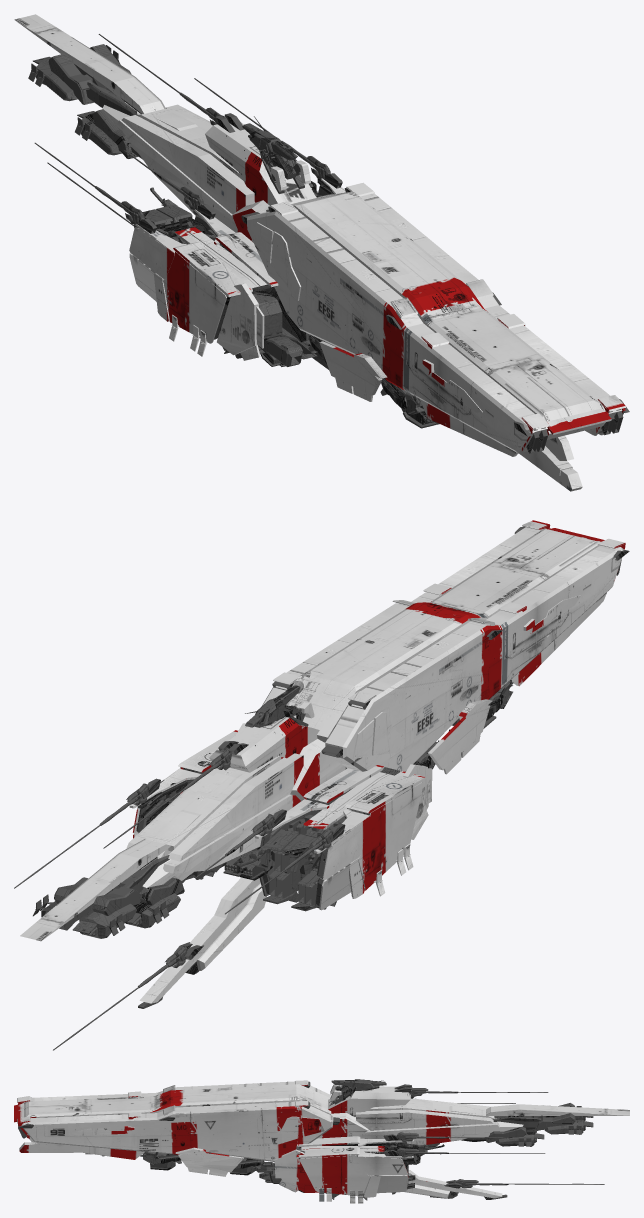
Rendered from battleship001.FBX.
3 views of the same model, one above another, from view 1: azimuth 30°, elevation 25°; view 2: azimuth 150°, elevation 25°; view 3: azimuth 270°, elevation 25° (orthographic). The views are drawn at different scales.
Parts seen in each view (by area): view 1: headbody, mainbody, detailbody, mainframe, detailframe, bridge; view 2: headbody, mainbody, detailbody, mainframe, detailframe, bridge; view 3: headbody, mainbody, detailbody, mainframe, detailframe, bridge.
Part boxes in pixels (x1=…): headbody: x1=247, y1=191, x2=622, y2=453; mainbody: x1=102, y1=102, x2=345, y2=343; detailbody: x1=14, y1=14, x2=625, y2=491; mainframe: x1=33, y1=44, x2=439, y2=428; detailframe: x1=28, y1=34, x2=629, y2=453; bridge: x1=242, y1=116, x2=304, y2=193; headbody: x1=262, y1=527, x2=623, y2=772; mainbody: x1=126, y1=716, x2=425, y2=1003; detailbody: x1=20, y1=520, x2=625, y2=941; mainframe: x1=41, y1=679, x2=513, y2=938; detailframe: x1=14, y1=526, x2=629, y2=1050; bridge: x1=245, y1=685, x2=308, y2=727; headbody: x1=21, y1=1081, x2=333, y2=1161; mainbody: x1=296, y1=1086, x2=523, y2=1198; detailbody: x1=14, y1=1080, x2=629, y2=1203; mainframe: x1=140, y1=1103, x2=593, y2=1200; detailframe: x1=18, y1=1081, x2=604, y2=1199; bridge: x1=331, y1=1079, x2=386, y2=1104.
Bounding box in the file's own units: 5476 × 5469 × 25290.
